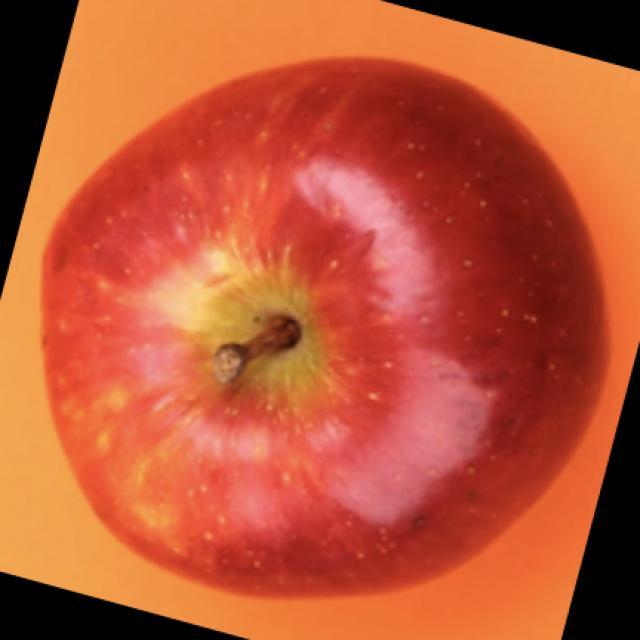Fresh Apple: (32, 68, 610, 607)
